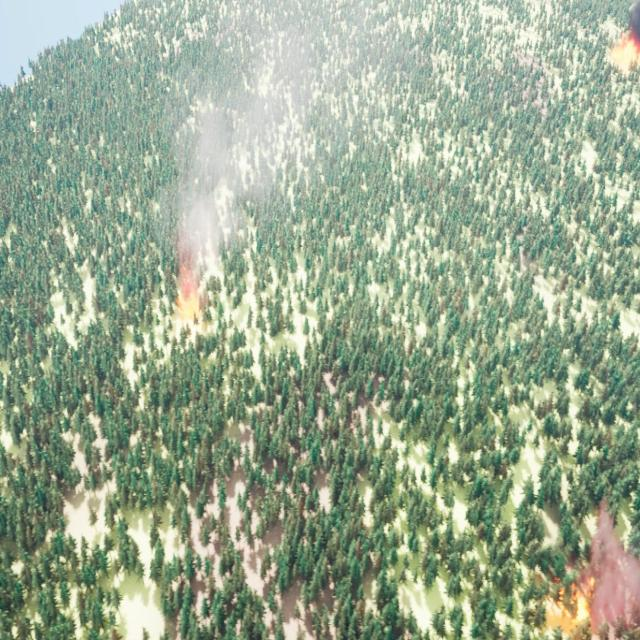fire: (545, 572, 594, 628), (176, 269, 199, 324), (608, 34, 640, 70)
smoke: (176, 2, 317, 259), (586, 499, 640, 639), (626, 2, 640, 34)
